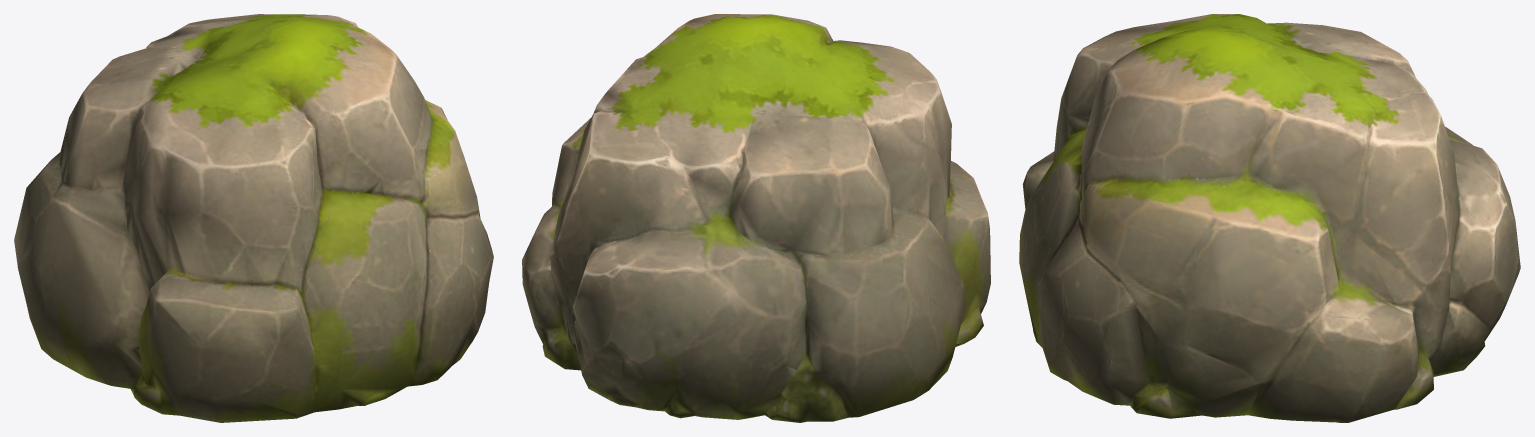
Rendered from rock-verdant-boulder.glb.
3 renders of one model, left to right at view 1: azimuth 30°, elevation 25°; view 2: azimuth 150°, elevation 25°; view 3: azimuth 270°, elevation 25°, orthographic. The views are drawn at different scales.
Parts seen in each view (by area): view 1: Mesh1.0; view 2: Mesh1.0; view 3: Mesh1.0.
Part boxes in pixels (left/top/right/bottom): Mesh1.0: left=14, top=14, right=493, bottom=422; Mesh1.0: left=522, top=14, right=990, bottom=422; Mesh1.0: left=1019, top=14, right=1520, bottom=422.
Size of the model in its own units: 1.76 by 1.28 by 1.9.
1 material, 1 textured.
